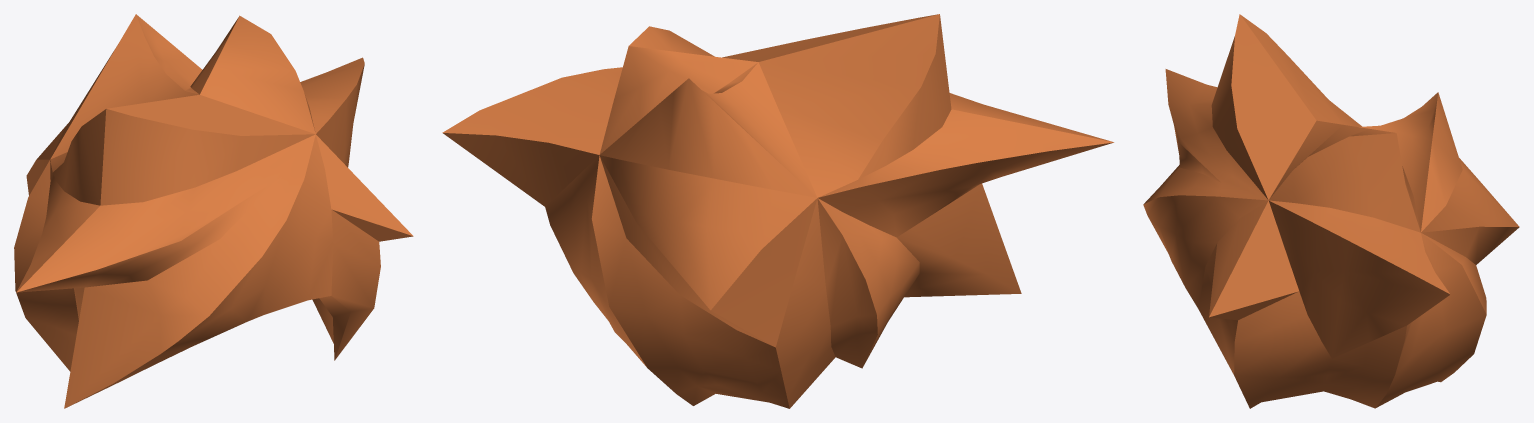
3 views of the same model, side by side, from view 1: azimuth 30°, elevation 25°; view 2: azimuth 150°, elevation 25°; view 3: azimuth 270°, elevation 25° (orthographic). The views are drawn at different scales.
Visible parts, largest first — view 1: 53981.dat; view 2: 53981.dat; view 3: 53981.dat.
Boxes of the visible parts, x1,y1,x2,y2 form: 53981.dat: (14, 14, 413, 408); 53981.dat: (442, 14, 1113, 408); 53981.dat: (1143, 14, 1519, 408).
Bounding box in the file's own units: 2.23 × 1.42 × 1.57.
